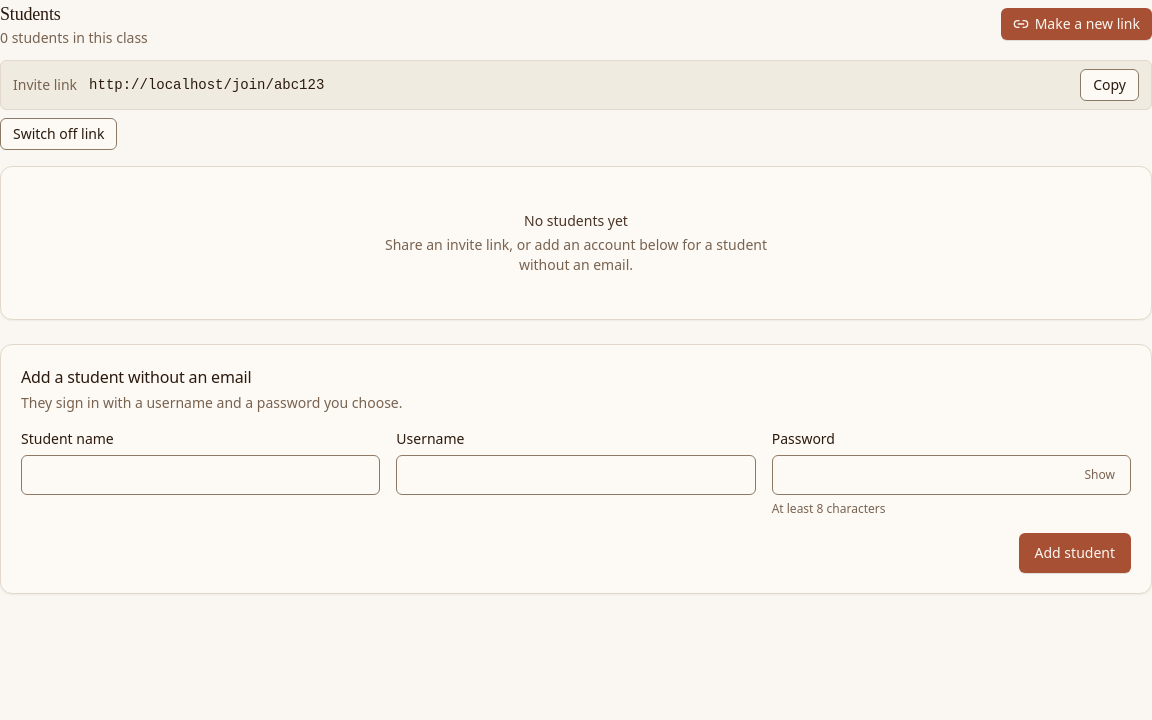
it: a failed switch-off shows the error and keeps the link
What coordinates should you click on to do the following:
click the button "Switch off link"
I would click on:
 (59, 134)
Its box is [0,118,118,150].
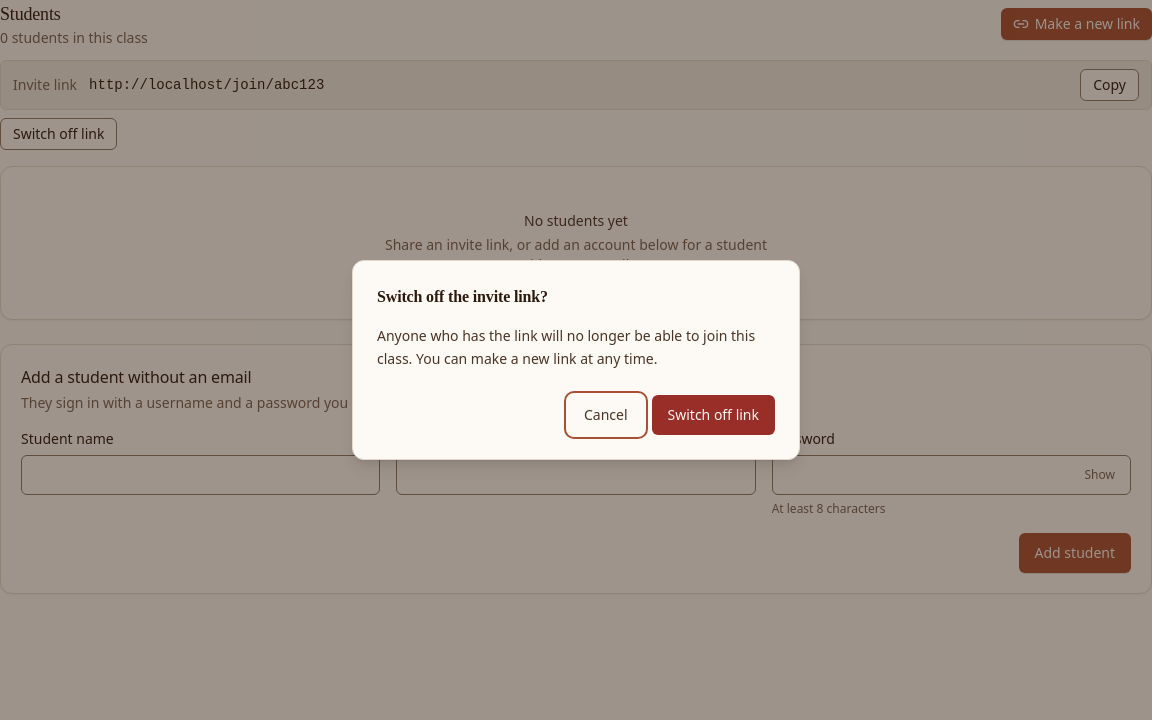
What coordinates should you click on to do the following:
click the button "Switch off link"
I would click on:
 (713, 415)
Its box is [652,395,775,435].
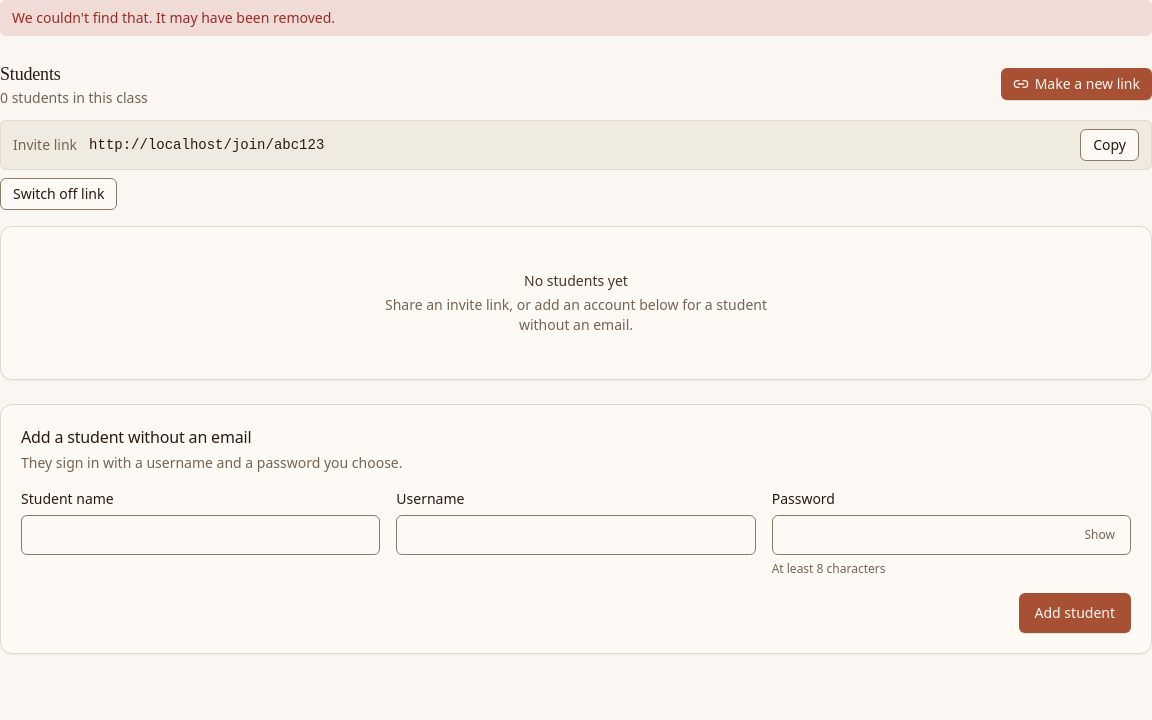
Expected: the message "We couldn't find that. It may have been removed." is shown, [0,0,1151,36]
